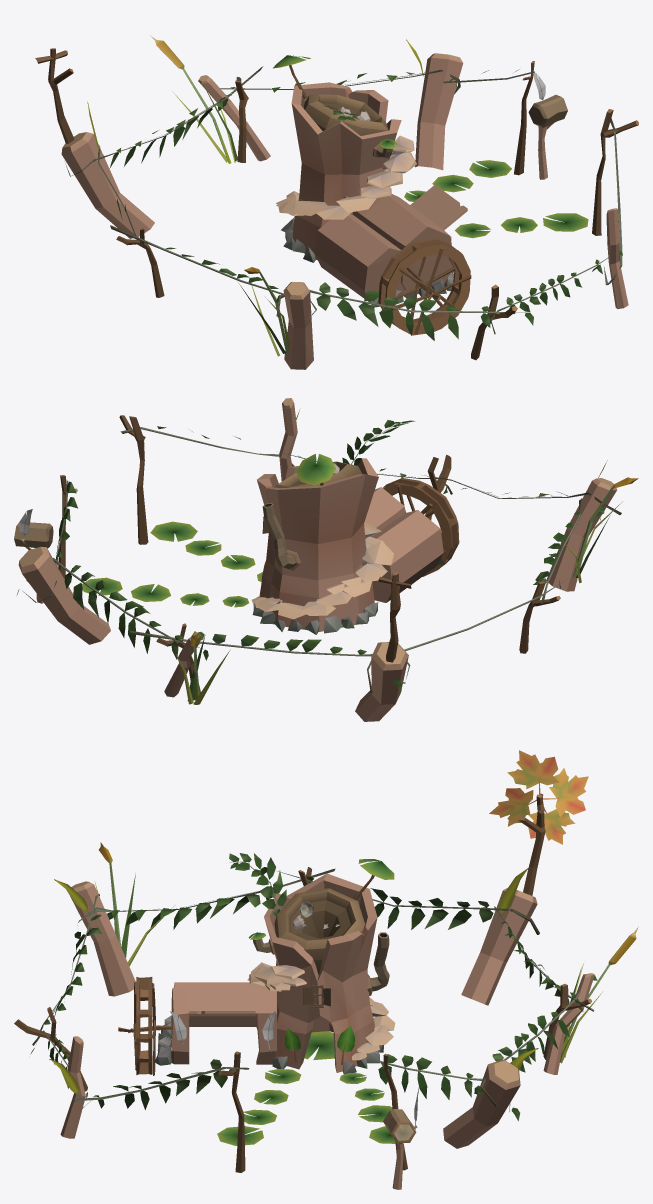
The picture shows the model from 3 angles, top to bottom: view 1: azimuth 30°, elevation 25°; view 2: azimuth 150°, elevation 25°; view 3: azimuth 270°, elevation 25°; orthographic projection.
Parts seen in each view (by area): view 1: nestStage_13, watermillHouse.004, garageDoor.005; view 2: nestStage_13, watermillHouse.004; view 3: nestStage_13, nestStageWindmill_11.006, watermillHouse.004.
Boxes of the visible parts, box(x1,y1,x2,y2) form: nestStage_13: box(48, 35, 638, 369); watermillHouse.004: box(378, 238, 471, 335); garageDoor.005: box(410, 185, 467, 230); nestStage_13: box(14, 398, 638, 721); watermillHouse.004: box(383, 478, 459, 576); nestStage_13: box(14, 794, 638, 1189); nestStageWindmill_11.006: box(489, 750, 588, 844); watermillHouse.004: box(118, 977, 171, 1075).
Bounding box in the file's own units: 6.39 × 2.88 × 6.91.
